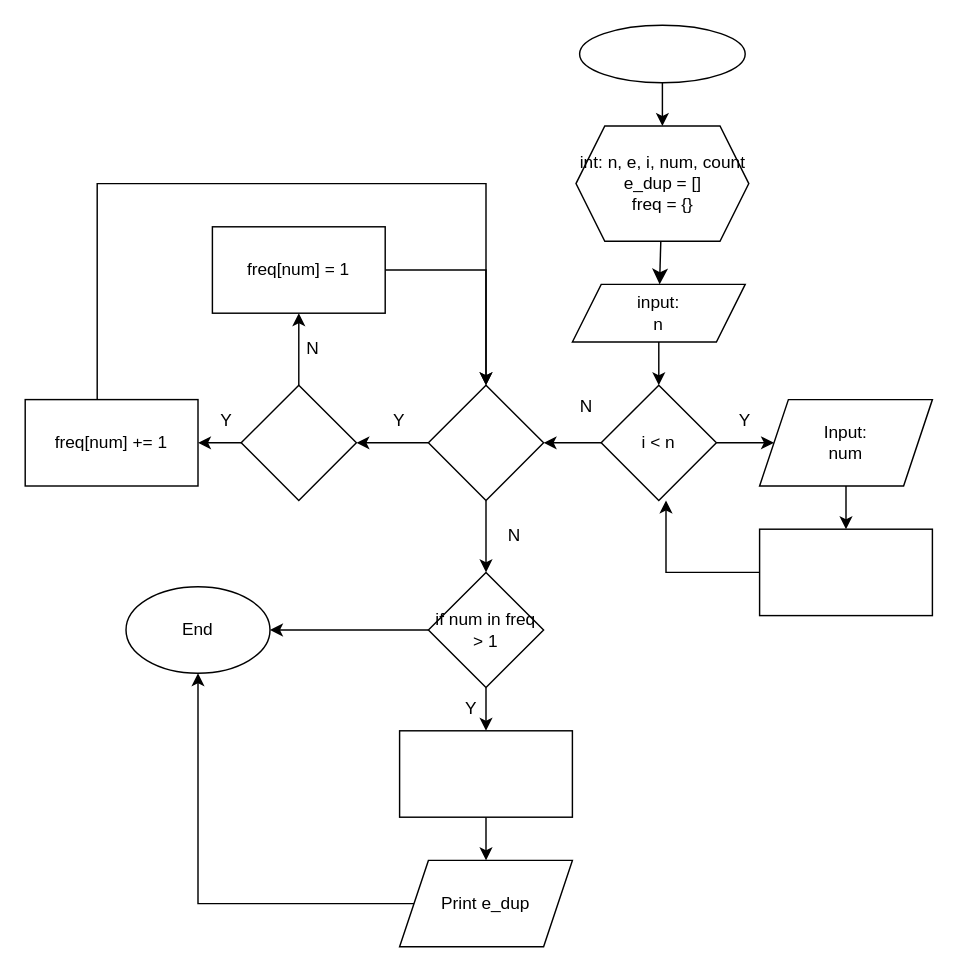
The diagram is 958 pixels wide and 972 high, and some of its shapes have lost their labels. The shapes that lost their labels are listed below. From the top down, each one's centre as x and y in pixels, then its label:
At pixel 661 53: "Start".
At pixel 298 442: "if num in freq".
At pixel 485 442: "num in len(e)".
At pixel 845 572: "append num to e".
At pixel 485 773: "e_dup.append(num)".
